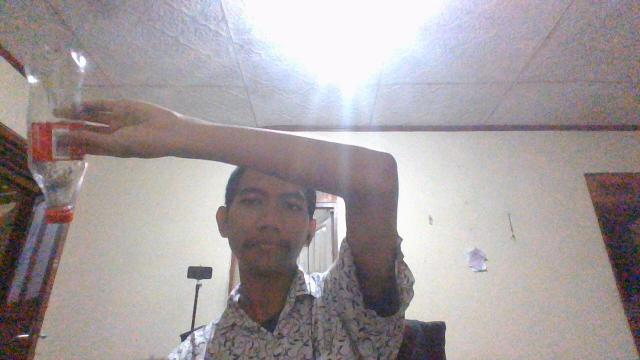coca-cola: (20, 38, 84, 225)
